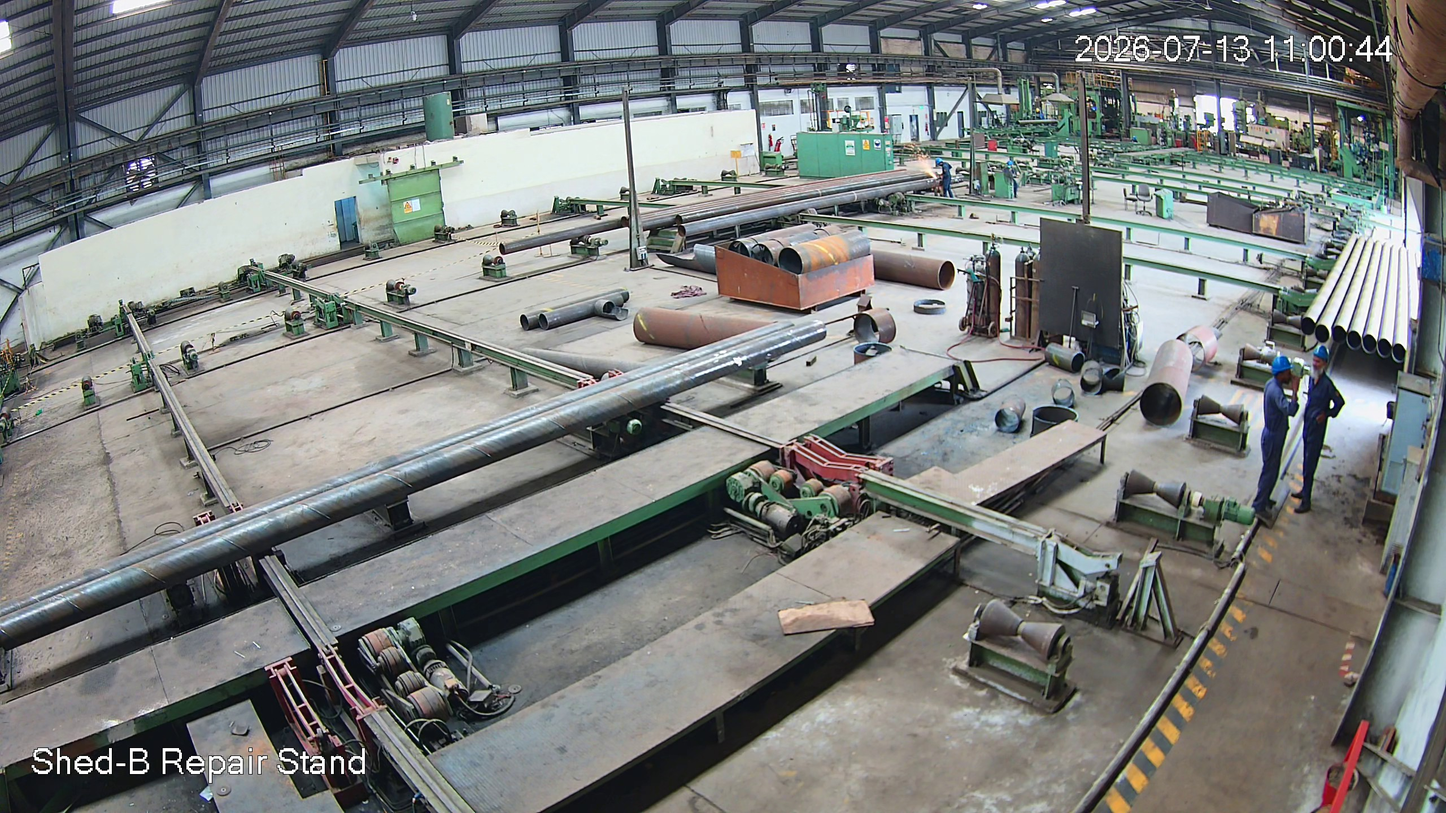Helmet: (1306, 344, 1330, 384), (1271, 355, 1298, 390)
Person: (1254, 357, 1304, 528), (1299, 348, 1344, 510)
